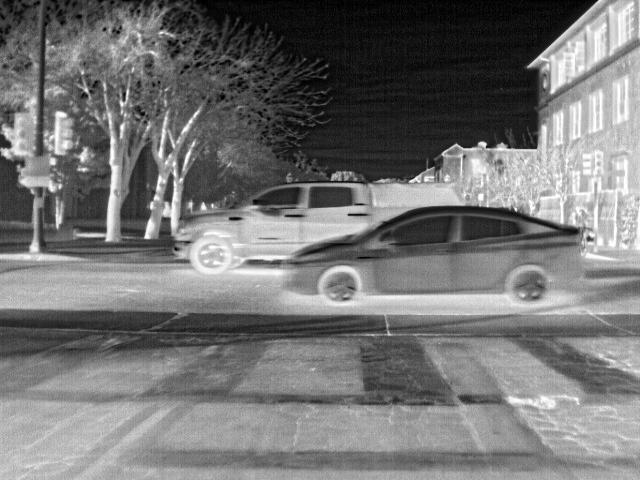car: (283, 204, 582, 306), (169, 207, 286, 276), (242, 183, 460, 204)
person: (572, 207, 587, 227)
